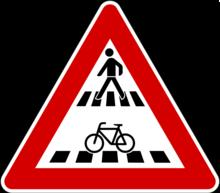Pedestrian Crossing: (27, 8, 201, 111)
